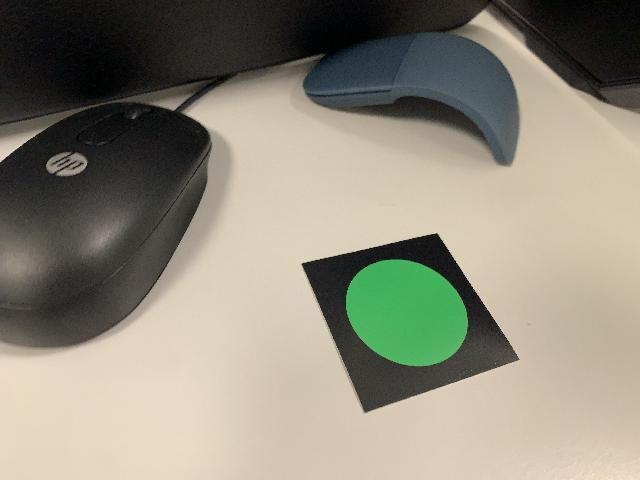go: (300, 232, 522, 416)
